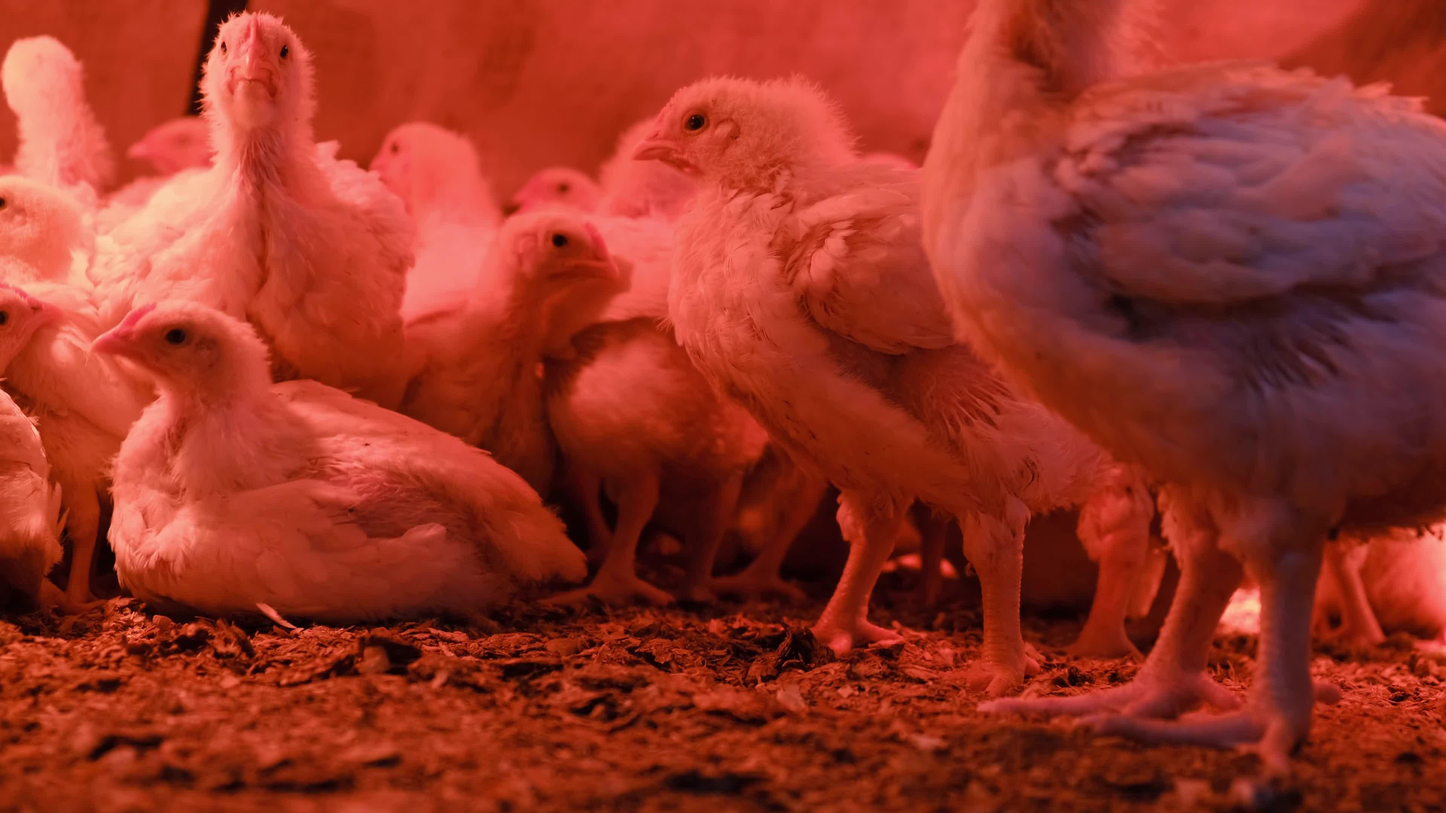AbNormal: (87, 300, 590, 616), (0, 285, 66, 626), (1314, 515, 1446, 655)
Normal: (925, 0, 1446, 777), (629, 79, 1112, 694), (87, 10, 422, 408), (557, 181, 752, 623), (0, 168, 158, 628), (397, 204, 620, 515), (358, 113, 507, 283), (0, 32, 125, 176), (127, 106, 230, 179), (512, 160, 608, 220)
